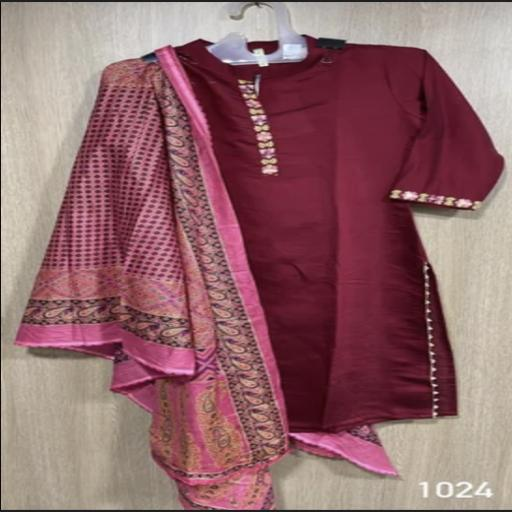Dupatta: (11, 58, 248, 512)
Kameez: (101, 54, 484, 424)
